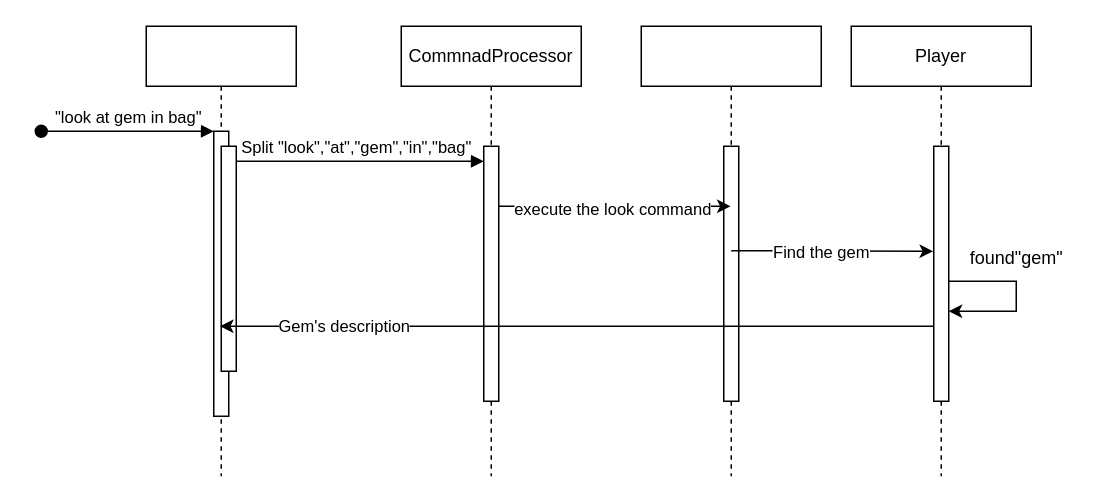
The diagram is 1110 pixels wide and 503 high, and some of its shapes have lost their labels. The shapes that lost their labels are listed below. From the top down, each one's box as (x1, y1, x2, y2) in pixels, then its label:
(145, 25, 296, 476): Program
(640, 25, 821, 476): LookCommand
